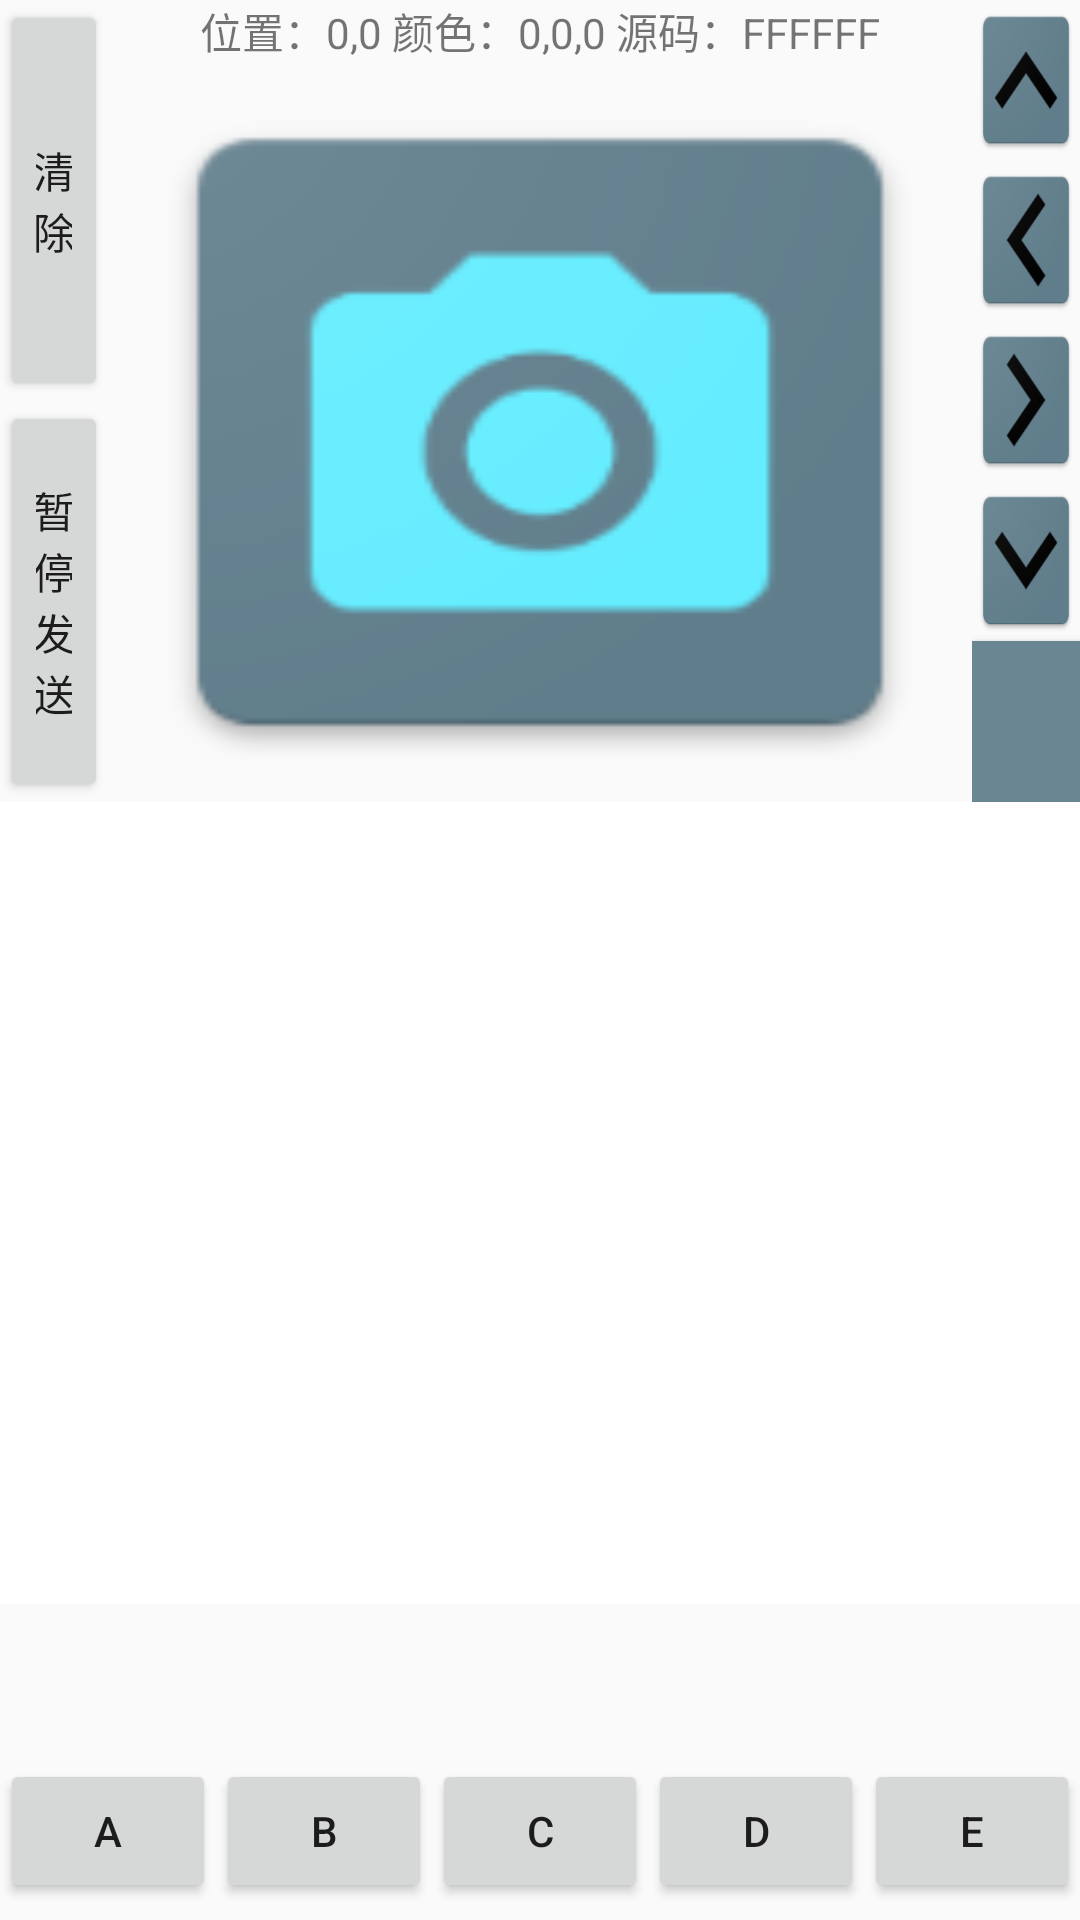

Icon bounding boxes for this 1080px x 1920px phone screenshot, format (x1, y1, x2, y2):
down: (982, 496, 1070, 628)
left: (982, 176, 1070, 307)
right: (982, 336, 1070, 467)
